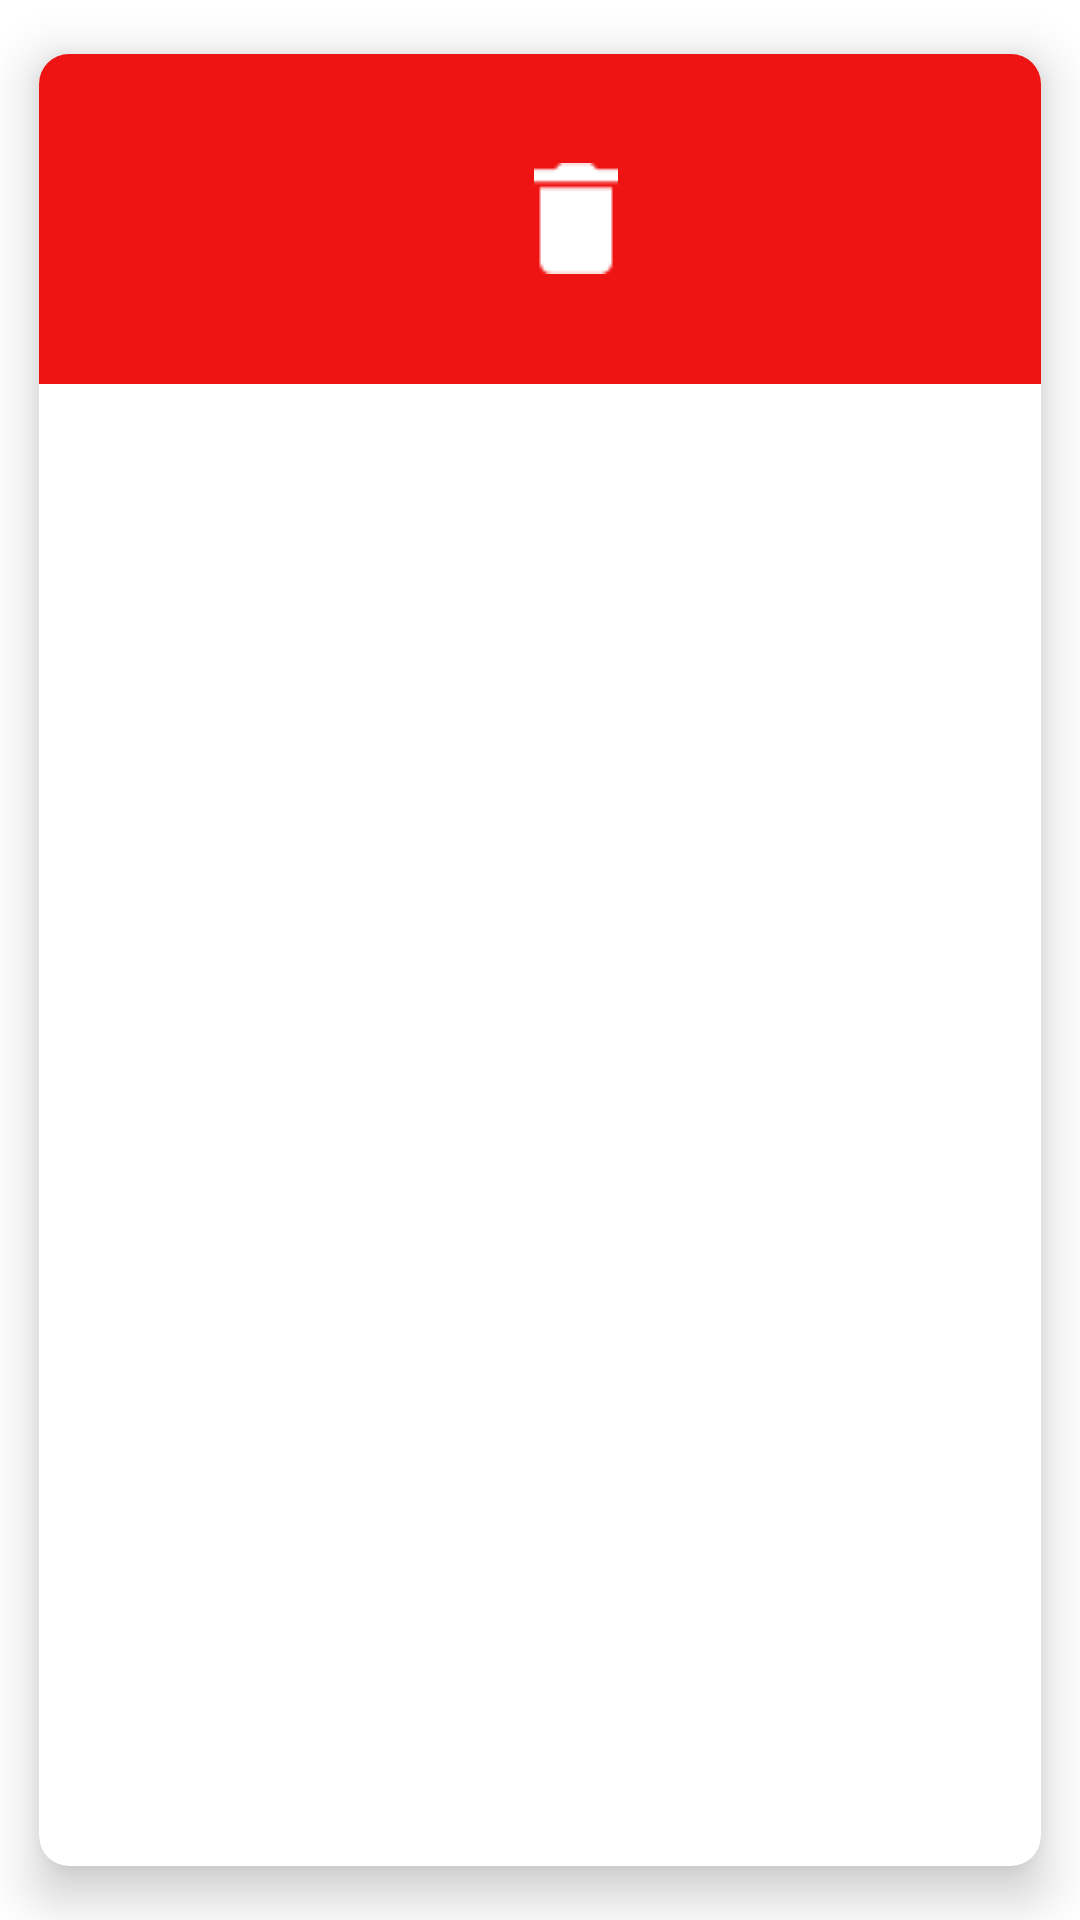

Icon click points for this 1080px x 1920px phone screenshot, format (x,y):
view delete: (576,218)
